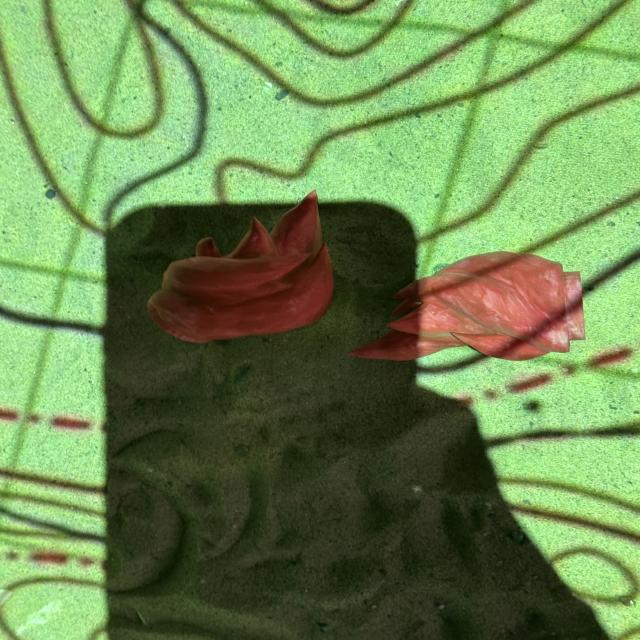fire: (144, 190, 341, 344), (356, 249, 587, 362)
